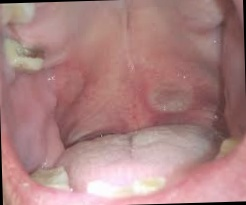Ulcer: (144, 76, 196, 114)
